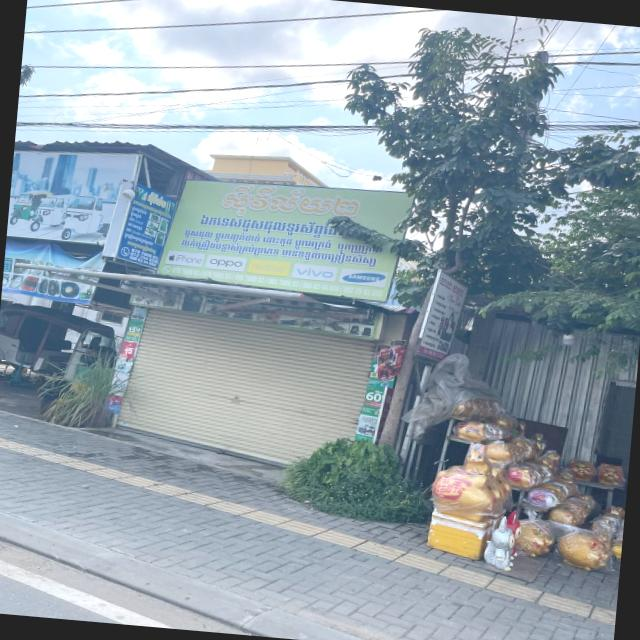1: (178, 236, 379, 268)
4: (179, 226, 386, 257)
Yolov11kh: (214, 180, 365, 222), (195, 213, 325, 239)
